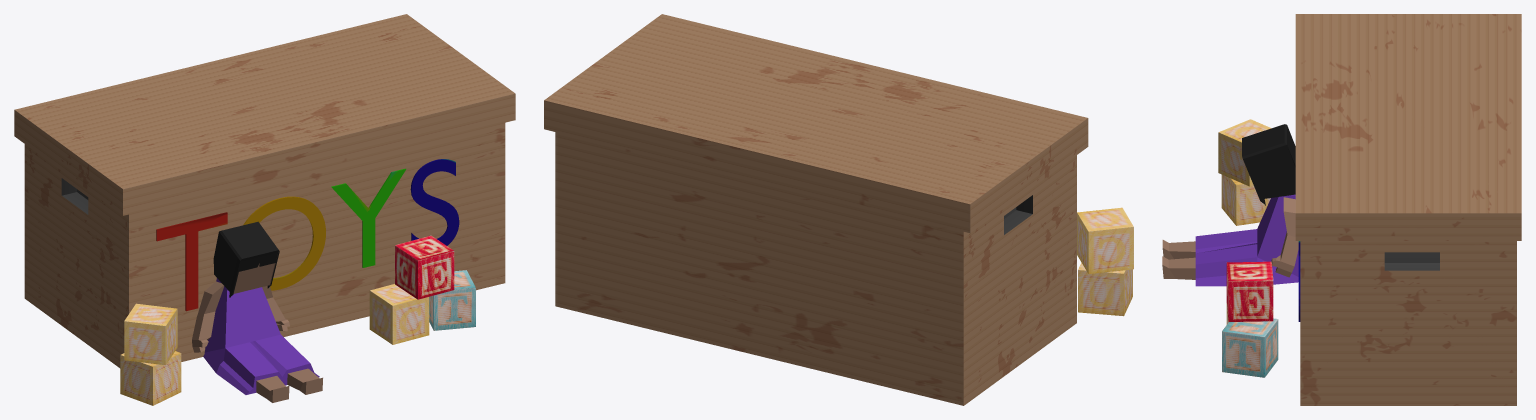
File: ToysBox.fbx
The picture shows the model from 3 angles, left to right: view 1: azimuth 30°, elevation 25°; view 2: azimuth 150°, elevation 25°; view 3: azimuth 270°, elevation 25°; orthographic projection. The views are drawn at different scales.
Parts seen in each view (by area): view 1: ToyBox; view 2: ToyBox; view 3: ToyBox.
Part boxes in pixels (x1,y1,x2,y2): ToyBox: (14,14,515,405); ToyBox: (544,14,1133,405); ToyBox: (1162,14,1521,405).
Size of the model in its own units: 0.1971 by 0.0864 by 0.1428.
